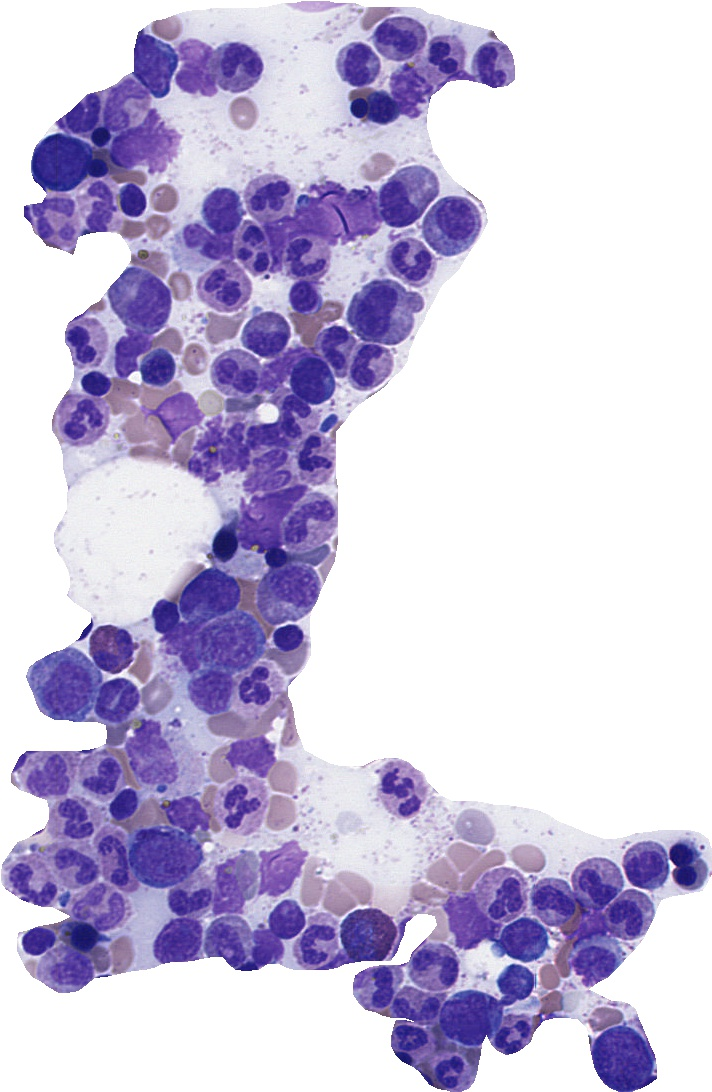objectness: (173, 220, 223, 270), (245, 169, 295, 219), (74, 882, 124, 932), (276, 235, 326, 285), (287, 435, 337, 485), (392, 981, 442, 1031), (28, 190, 78, 240), (381, 237, 431, 287), (47, 795, 97, 845), (228, 663, 278, 713), (289, 919, 339, 969), (75, 181, 125, 231), (228, 222, 278, 272), (47, 839, 97, 889), (267, 389, 317, 439), (410, 941, 460, 991), (491, 1009, 541, 1059), (307, 322, 357, 372), (480, 871, 530, 921), (345, 340, 395, 390), (420, 33, 470, 83), (353, 963, 403, 1013), (216, 781, 266, 831), (386, 1014, 436, 1064), (378, 761, 428, 811), (197, 257, 247, 307), (6, 859, 56, 909), (90, 834, 140, 884), (57, 392, 107, 442), (206, 916, 256, 966), (423, 202, 473, 252), (381, 170, 431, 220), (624, 841, 674, 891), (35, 945, 85, 995), (356, 287, 406, 337), (525, 875, 575, 925), (118, 277, 168, 327), (340, 910, 390, 960), (87, 623, 137, 673), (471, 41, 521, 91), (166, 872, 216, 922), (210, 38, 260, 88), (60, 92, 110, 142), (77, 754, 127, 804), (569, 857, 619, 907), (99, 80, 149, 130), (208, 350, 258, 400), (335, 41, 385, 91), (279, 496, 329, 546), (241, 310, 291, 360), (608, 887, 658, 937), (59, 319, 109, 369), (371, 12, 421, 62), (37, 134, 87, 184), (128, 39, 178, 89), (204, 615, 254, 665), (443, 994, 493, 1044), (135, 831, 185, 881), (183, 568, 233, 618), (40, 658, 90, 708), (235, 929, 285, 979), (126, 733, 176, 783), (234, 493, 284, 543), (11, 918, 61, 968), (109, 177, 159, 227), (383, 63, 433, 113), (309, 191, 359, 241), (241, 446, 291, 496), (169, 24, 219, 74), (263, 611, 313, 661), (262, 892, 312, 942), (200, 520, 250, 570), (166, 58, 216, 108), (442, 893, 492, 943), (151, 916, 201, 966), (158, 626, 208, 676), (560, 900, 610, 950), (191, 423, 241, 473), (256, 342, 306, 392), (154, 389, 204, 439), (228, 726, 278, 776), (71, 142, 121, 192), (253, 532, 303, 582), (140, 589, 190, 639), (571, 932, 621, 982), (208, 859, 258, 909), (73, 112, 123, 162), (71, 357, 121, 407), (254, 841, 304, 891), (328, 83, 378, 133), (102, 325, 152, 375), (87, 676, 137, 726), (248, 411, 298, 461), (99, 780, 149, 830), (492, 959, 542, 1009), (253, 205, 303, 255), (159, 787, 209, 837), (116, 120, 166, 170), (56, 912, 106, 962), (23, 752, 73, 802), (186, 668, 236, 718), (287, 355, 337, 405), (501, 914, 551, 964), (195, 185, 245, 235), (278, 271, 328, 321), (357, 84, 407, 134), (133, 342, 183, 392), (263, 566, 313, 616), (425, 1045, 475, 1092)
